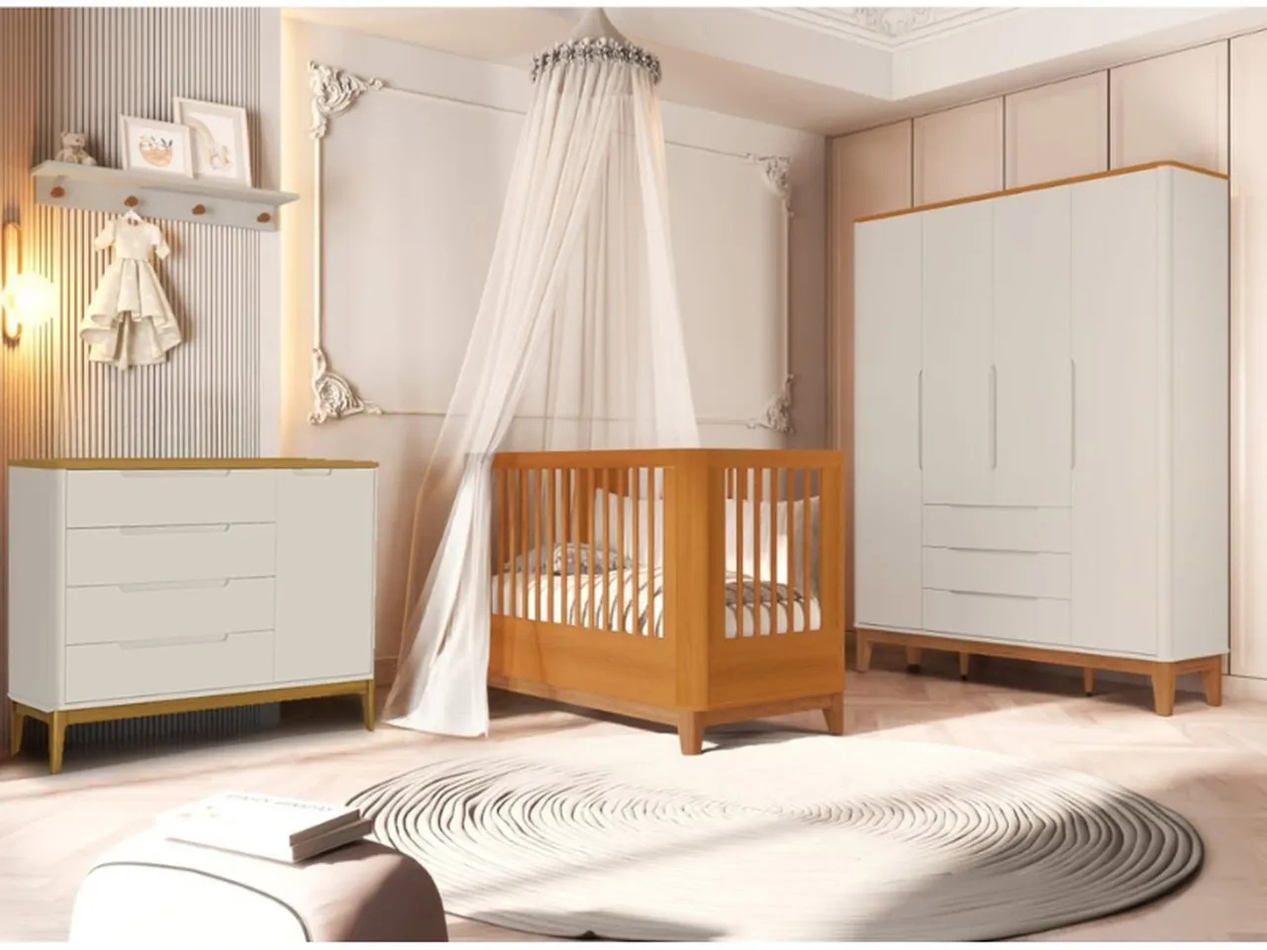crib: (489, 449, 844, 753)
